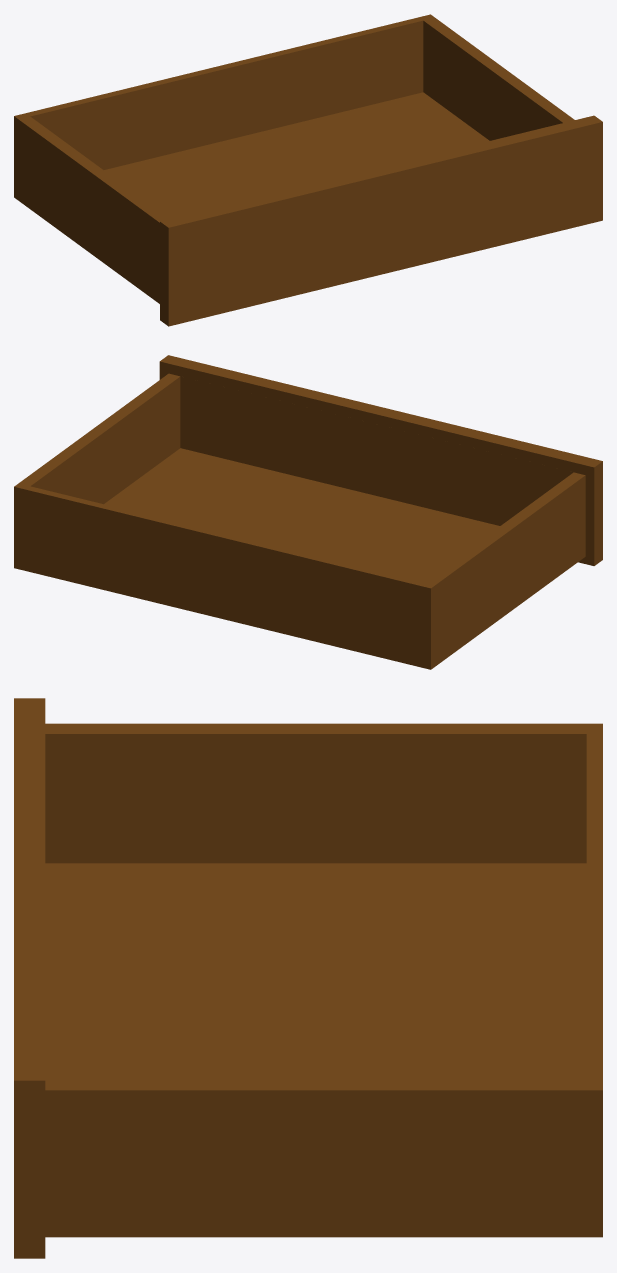
File: CajonMesaLuz.fbx
3 views of the same model, one above another, from view 1: azimuth 30°, elevation 25°; view 2: azimuth 150°, elevation 25°; view 3: azimuth 270°, elevation 25° (orthographic). The views are drawn at different scales.
Parts seen in each view (by area): view 1: Cube.004; view 2: Cube.004; view 3: Cube.004.
Boxes of the visible parts, bbox=[...] form: Cube.004: bbox=[14, 14, 602, 326]; Cube.004: bbox=[14, 355, 602, 669]; Cube.004: bbox=[14, 698, 602, 1258].
Bounding box in the file's own units: 121 × 26.21 × 78.57.
